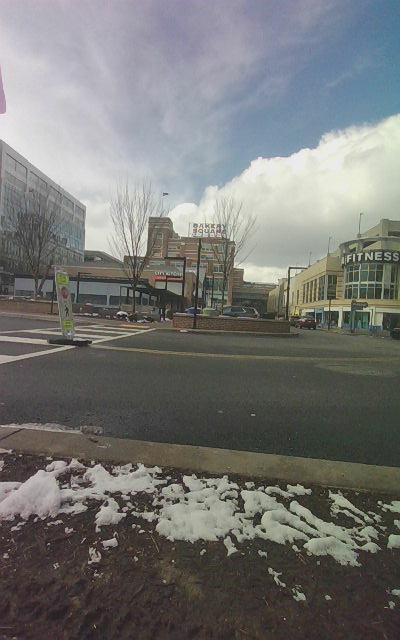curb: (0, 427, 399, 639)
road: (1, 316, 399, 467)
